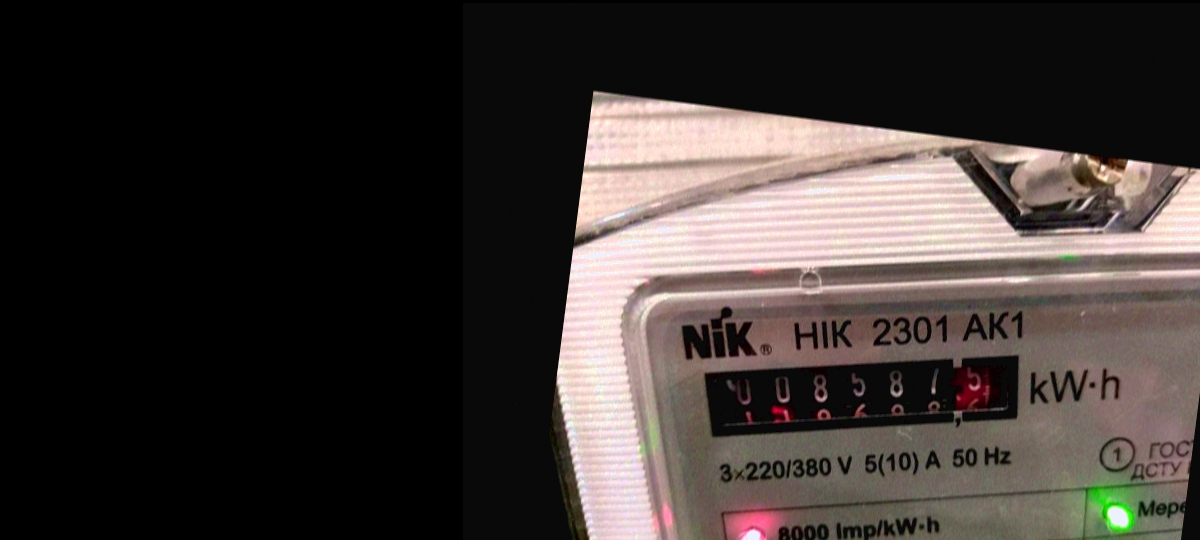0: (767, 370, 797, 407), (729, 373, 759, 408)
5: (845, 367, 871, 401), (961, 360, 986, 393)
6: (963, 395, 983, 414)
7: (920, 364, 947, 400)
8: (807, 371, 835, 406), (882, 366, 909, 401)
screen: (688, 315, 1047, 480)
